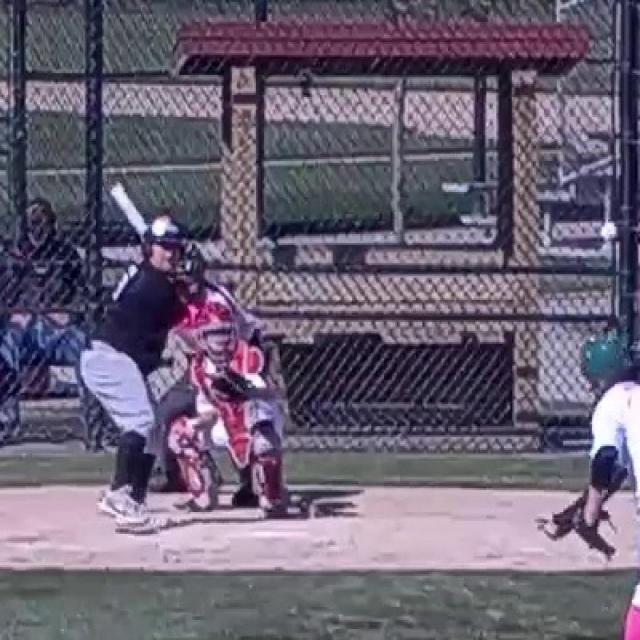baseball: (602, 223, 617, 238)
